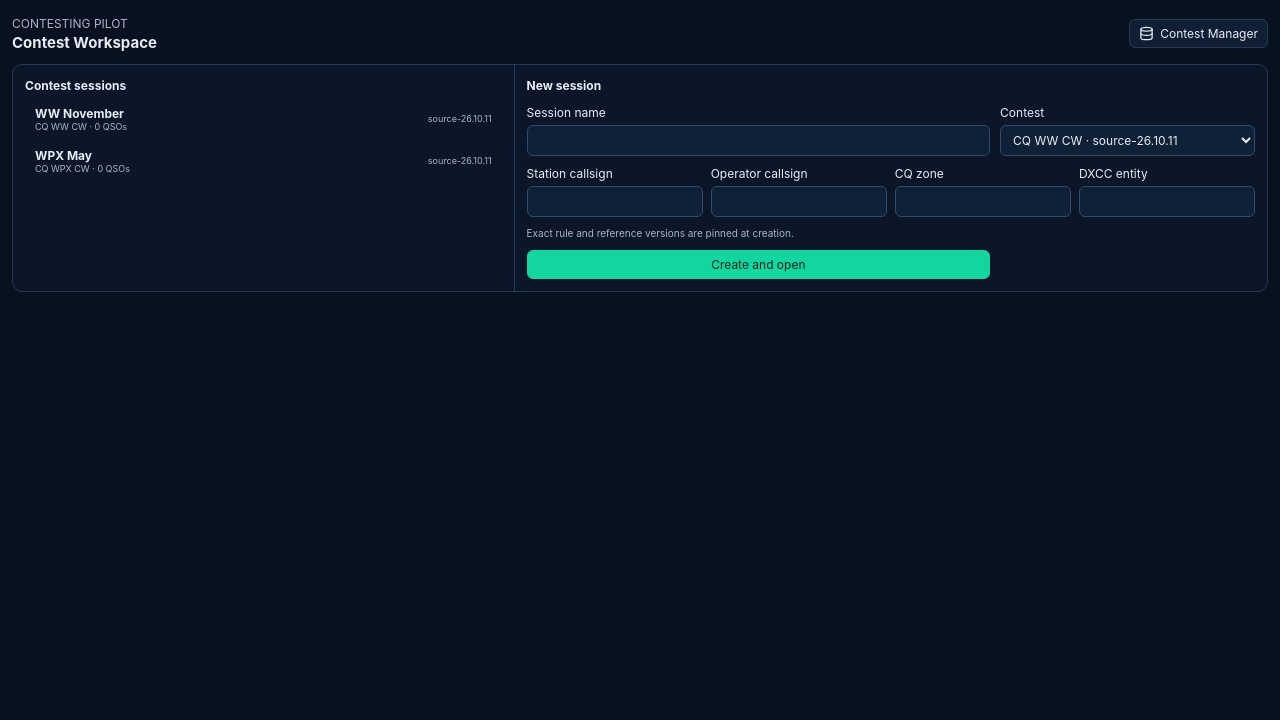
Test: creates an SSB pilot from catalog metadata and uses phone reports with WPX serial capability
expect the text "WW November" is shown: met, box top-left (35, 106), bottom-right (127, 120)
Type "WPX SSB Saturday" into the field labelled "Session name" at (758, 140), box top-left (527, 125), bottom-right (990, 156)
Select "CQ WPX SSB · source-26.10.11" in the dropdown labelled "Contest" at (1128, 140), box top-left (1000, 125), bottom-right (1255, 156)
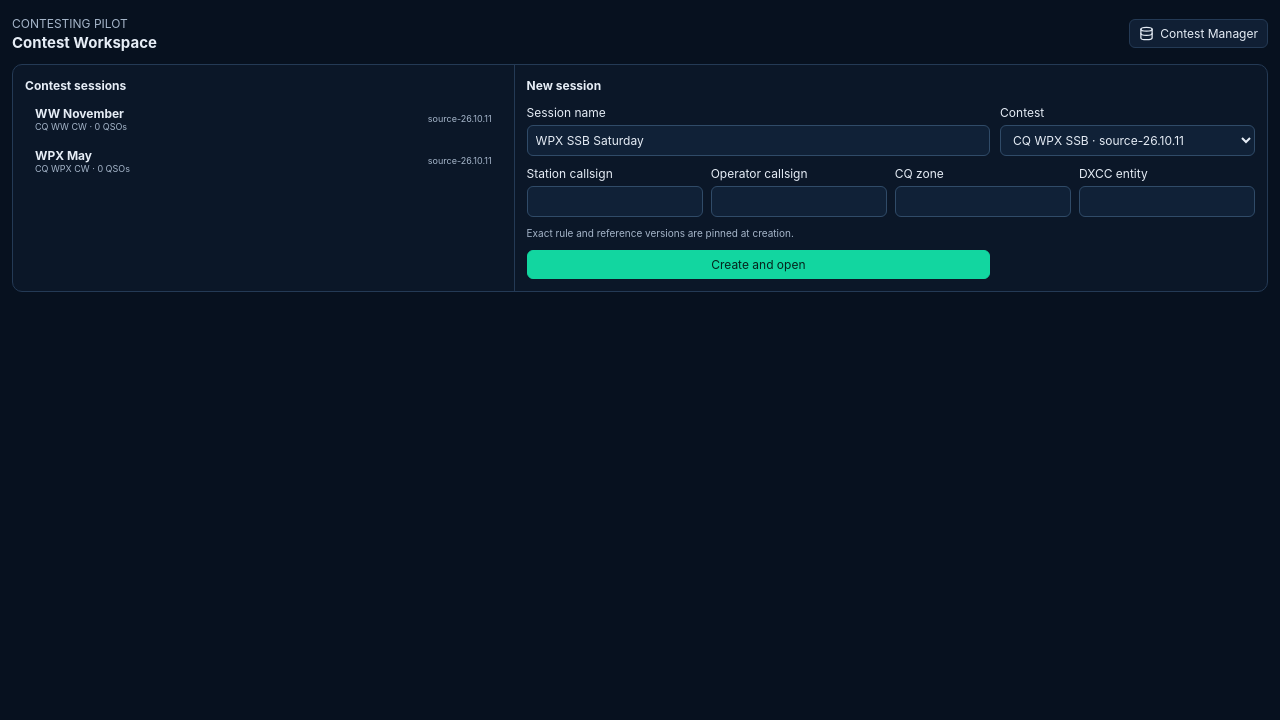
Type "OM0RX" into the field labelled "Station callsign" at (615, 202), box top-left (527, 186), bottom-right (703, 217)
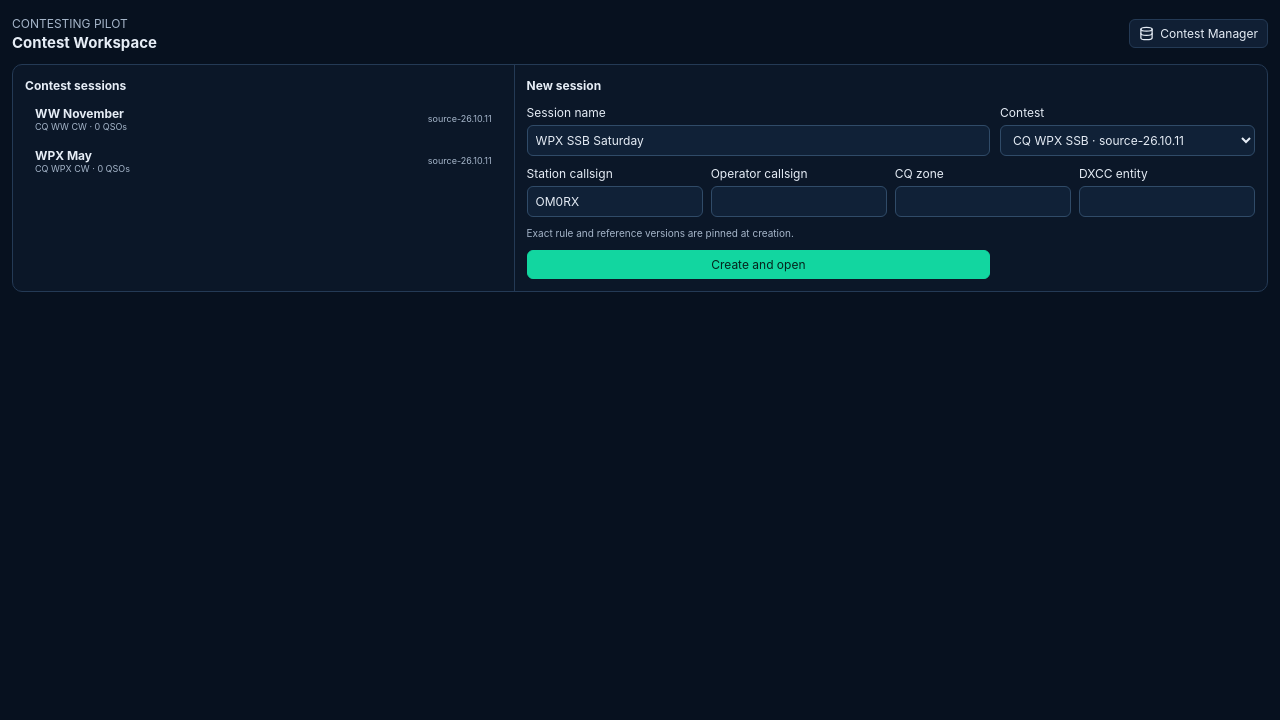
Type "OM0RX" into the field labelled "Operator callsign" at (799, 202), box top-left (711, 186), bottom-right (887, 217)
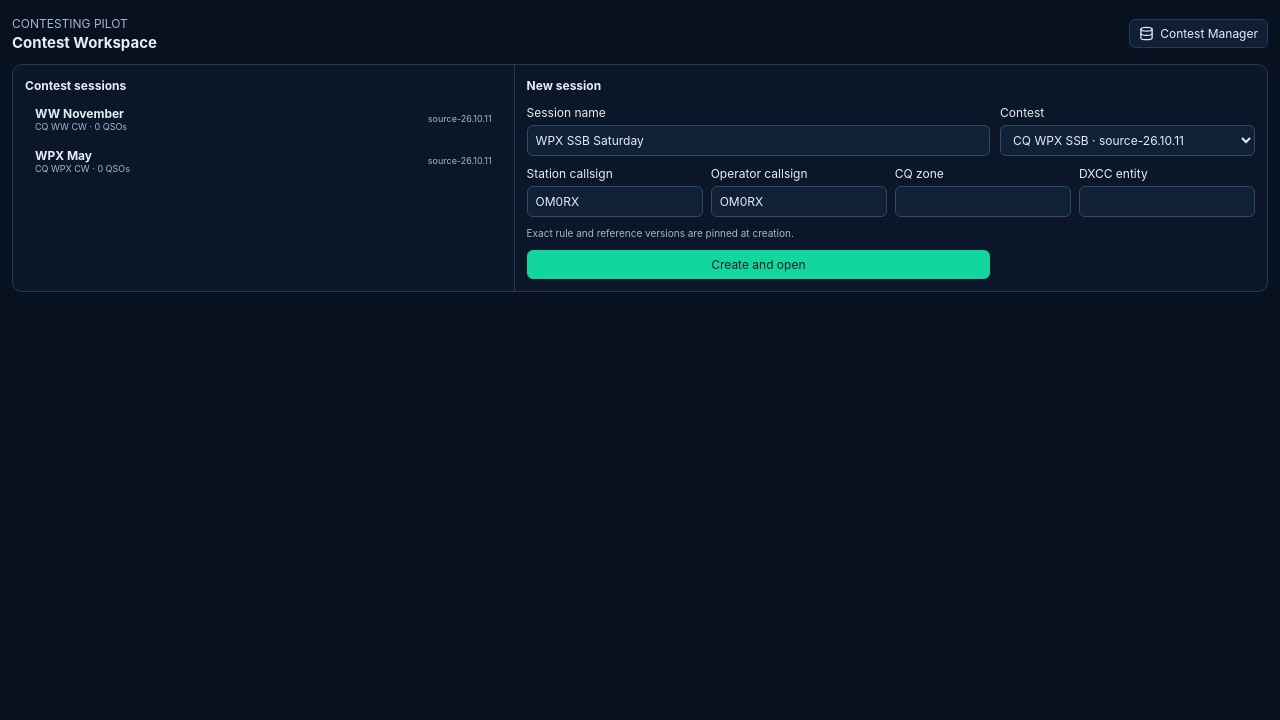
Type "15" into the field labelled "CQ zone" at (983, 202), box top-left (895, 186), bottom-right (1071, 217)
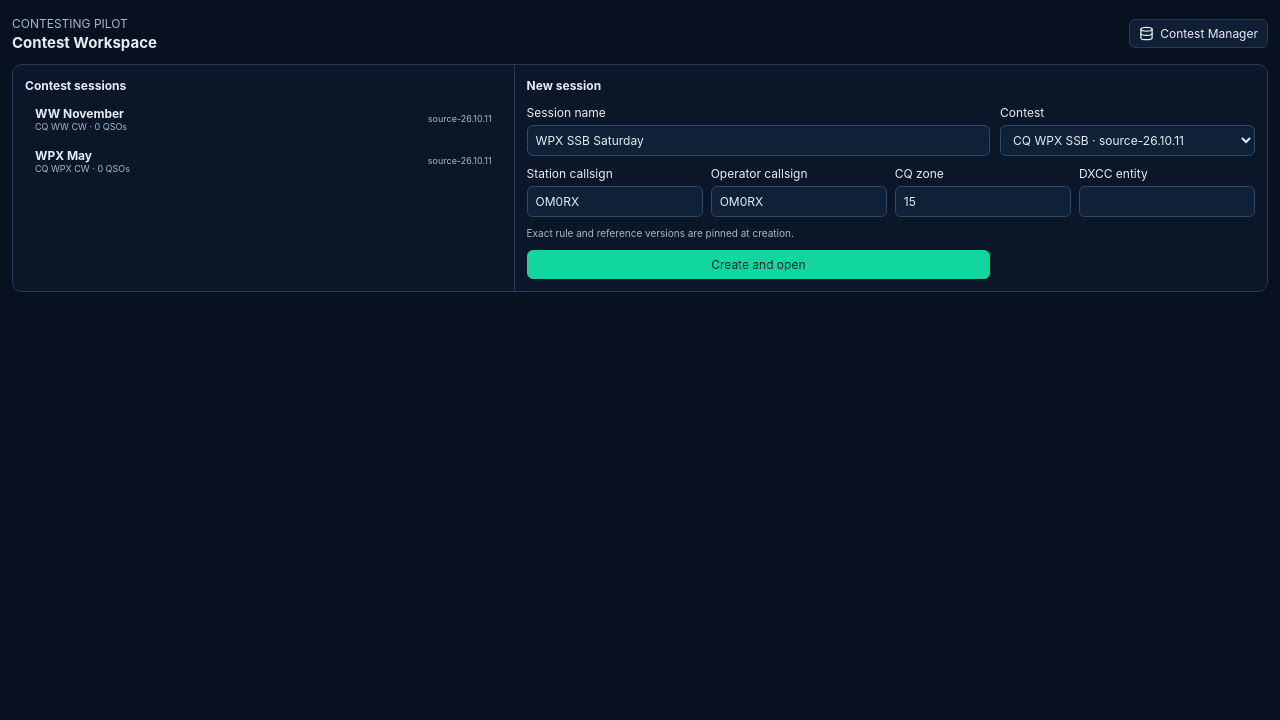
Type "Slovak Republic" into the field labelled "DXCC entity" at (1167, 202), box top-left (1079, 186), bottom-right (1255, 217)
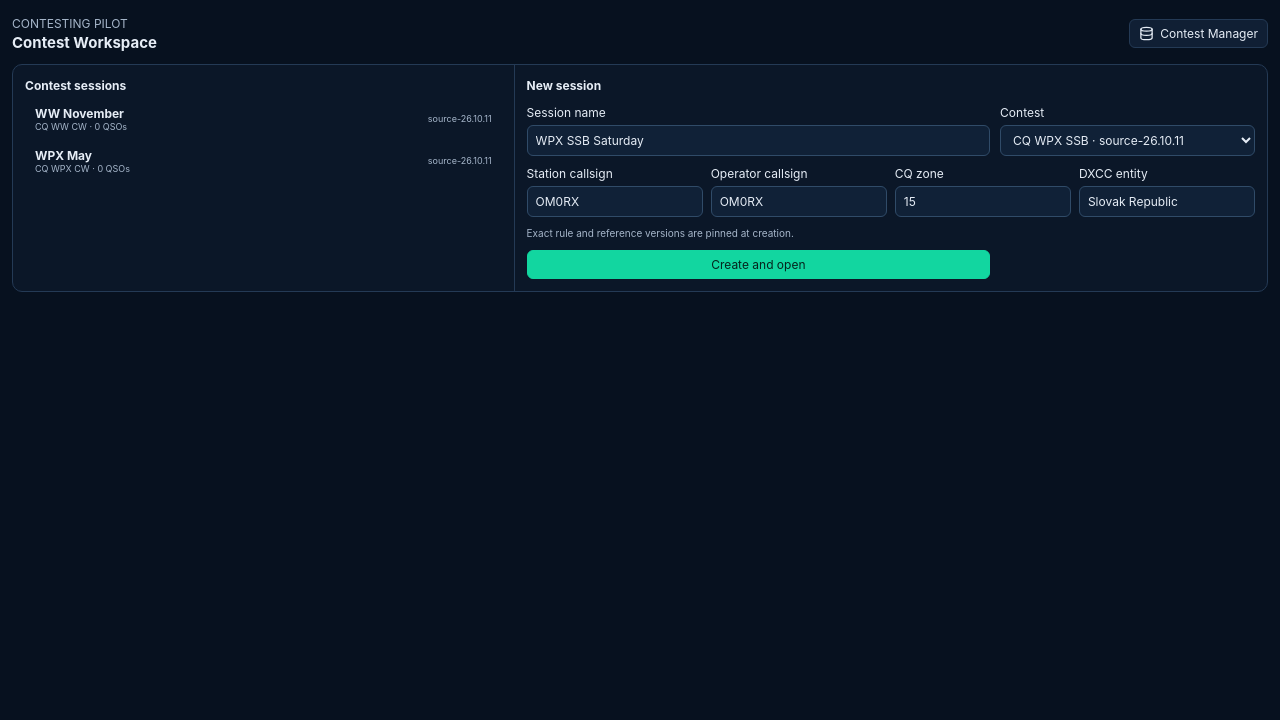
Click the button "Create and open" at (758, 264), box top-left (527, 250), bottom-right (990, 279)
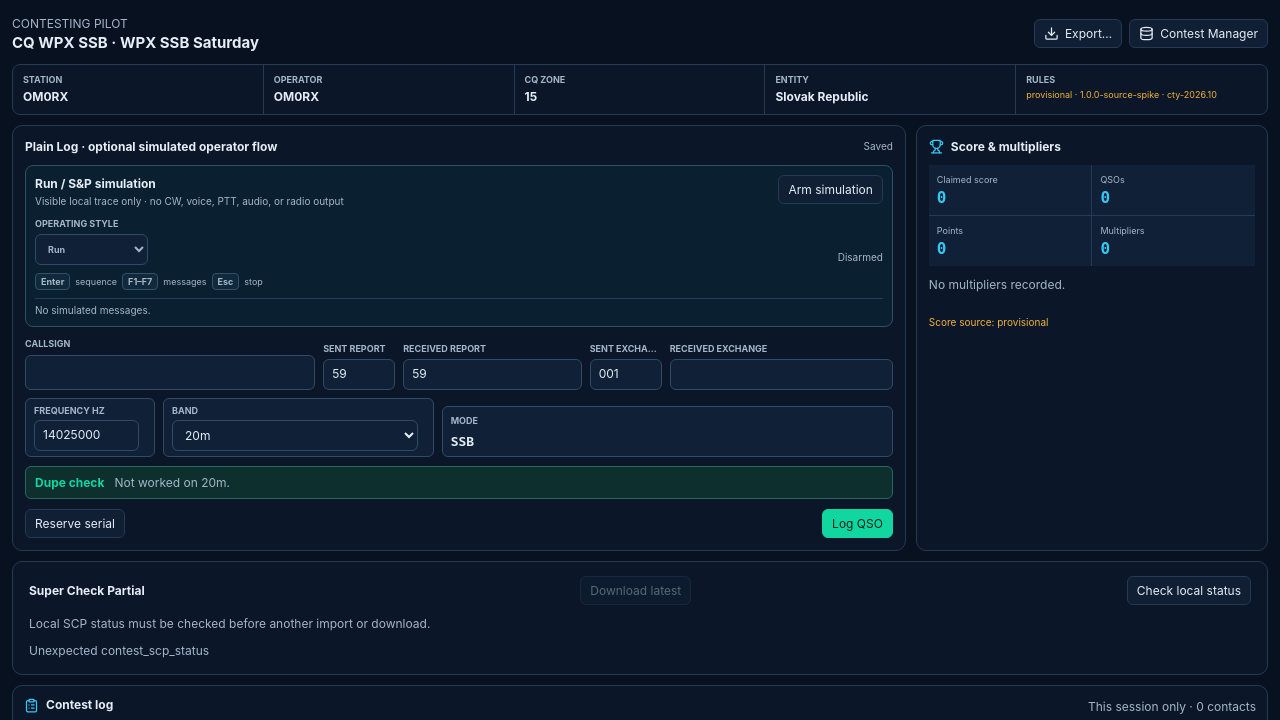
expect the form named "SSB contest entry" is shown: met, box top-left (12, 125), bottom-right (906, 551)
expect the text "SSB" is shown: met, box top-left (451, 434), bottom-right (474, 449)
expect the field labelled "Sent report" holds "59": met, box top-left (323, 359), bottom-right (395, 390)
